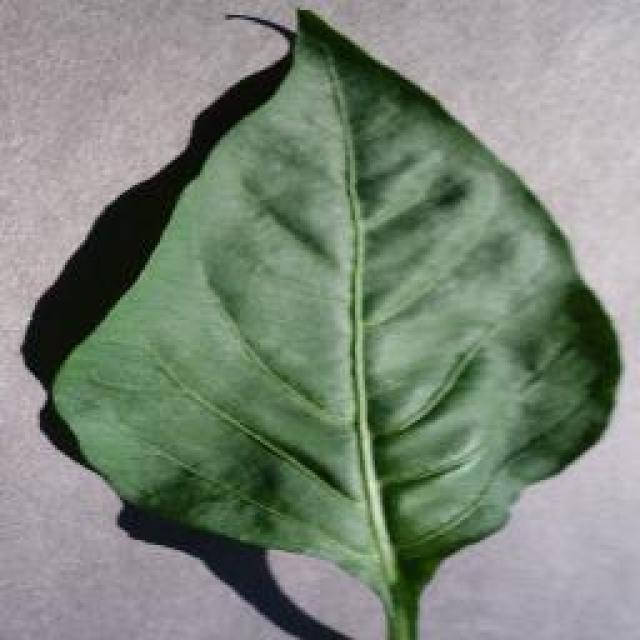Chilli_Healthy: (32, 5, 622, 637)
